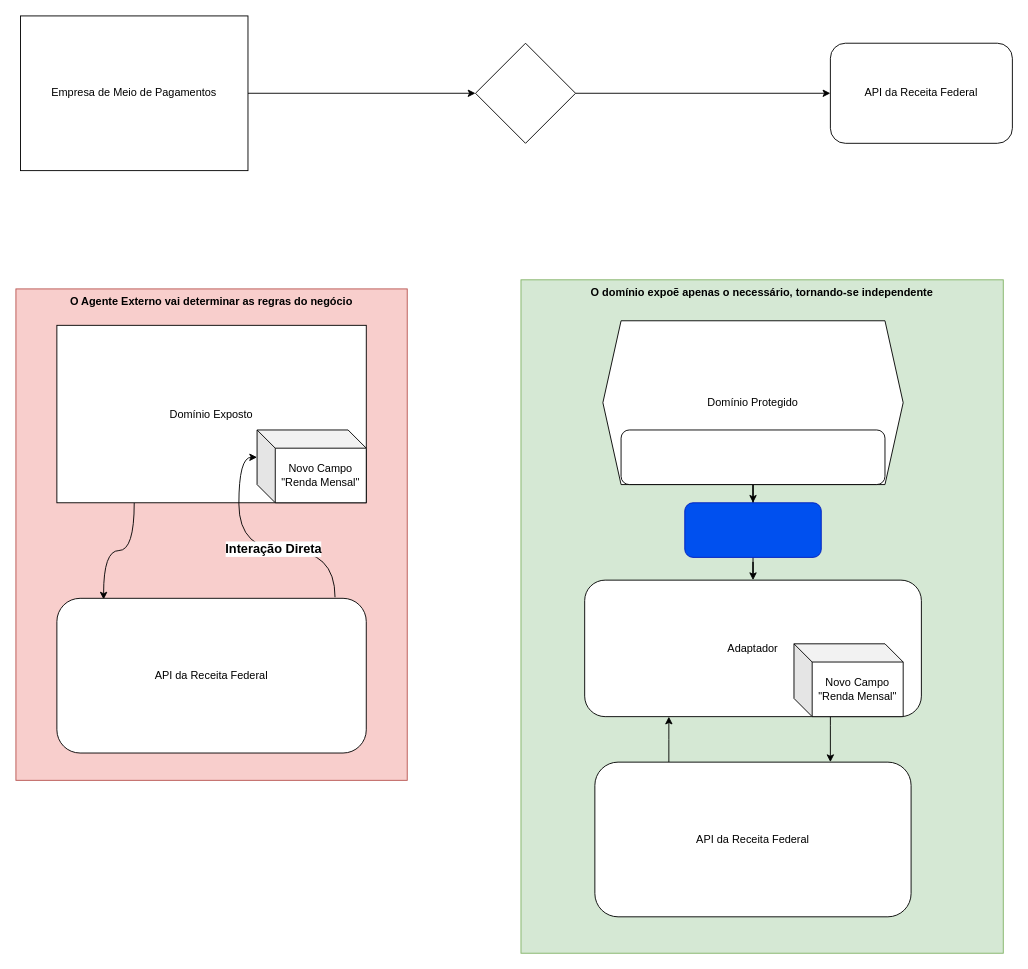
The diagram is 1028 pixels wide and 969 high, and some of its shapes have lost their labels. Here are the shapes that lost their labels. From the top down, the centre of each, then its label:
At point 525,92: "Verificação de fraude".
At point 752,457: "Porta".
At point 752,529: "Contrato: - Score".
